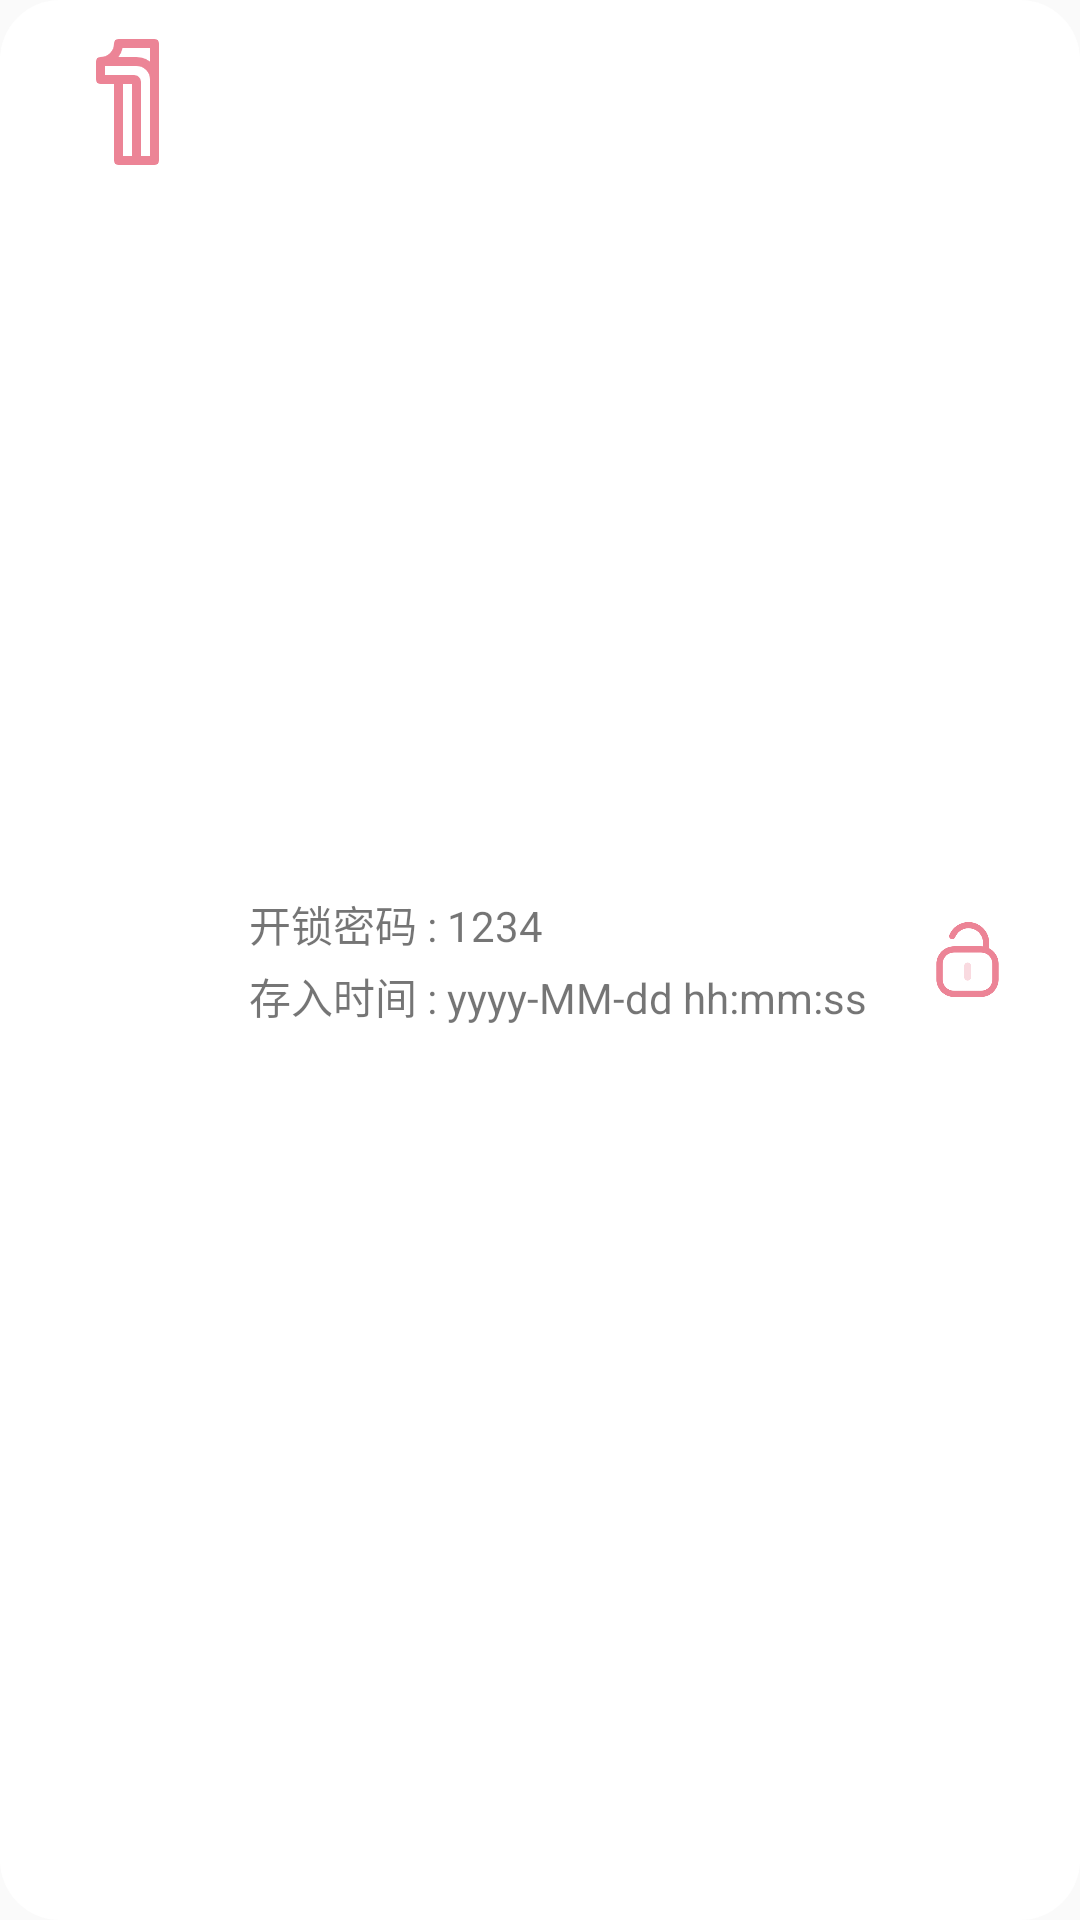

Named icons in this screenshot (1080*1920) and their bounding boxes, (x1, y1, x2, y2):
num: (96, 39, 159, 165)
open: (936, 922, 999, 997)
